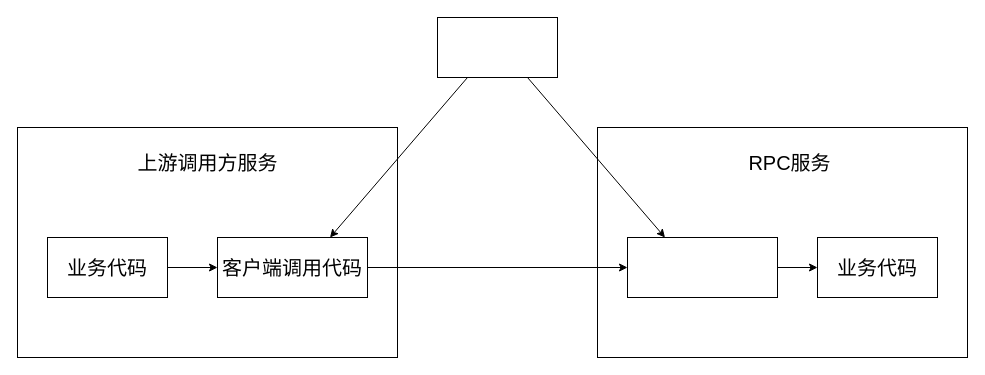
Image size: 985x375. Some labels were removed from this diagram. Here are the shapes that lost their labels. From the top down, the centre of each, then its label:
(497,47): IDL文件
(702,267): 服务端监听代码
